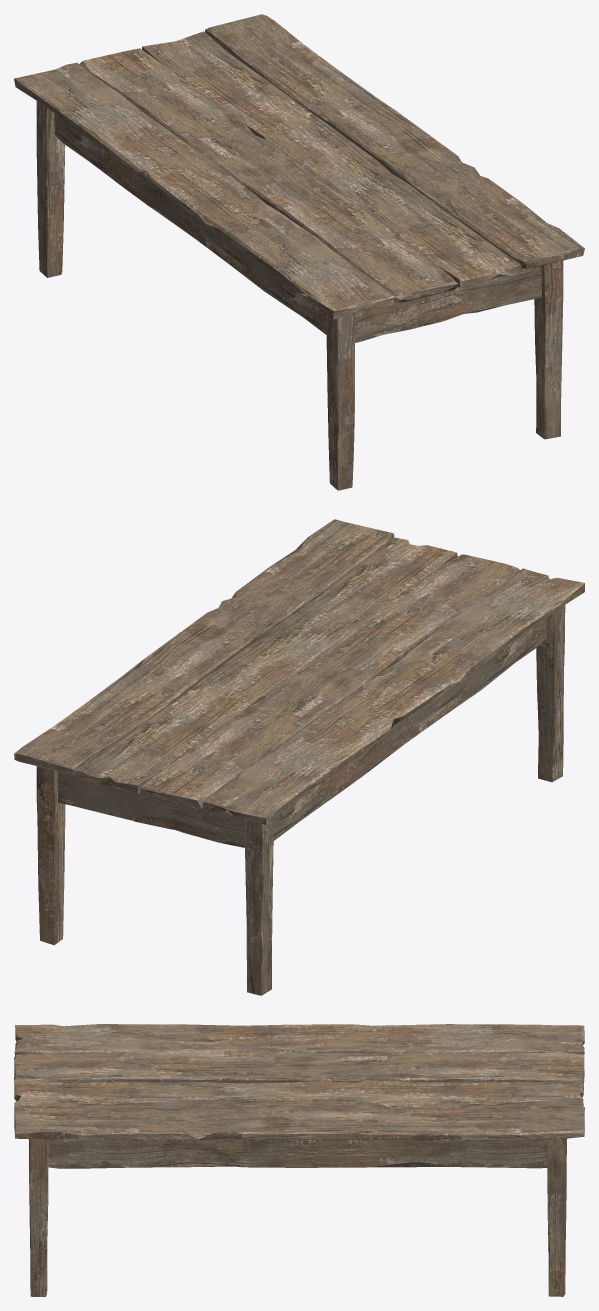
File: SM_HallTable_01.fbx
3 renders of one model, top to bottom at view 1: azimuth 30°, elevation 25°; view 2: azimuth 150°, elevation 25°; view 3: azimuth 270°, elevation 25°, orthographic. The views are drawn at different scales.
Visible parts, largest first — view 1: SM_HallTable_01_LOD0; view 2: SM_HallTable_01_LOD0; view 3: SM_HallTable_01_LOD0.
Part boxes in pixels (left/top/right/bottom): SM_HallTable_01_LOD0: left=14, top=14, right=584, bottom=490; SM_HallTable_01_LOD0: left=14, top=519, right=584, bottom=995; SM_HallTable_01_LOD0: left=14, top=1024, right=584, bottom=1296.
Size of the model in its own units: 137 by 299 by 99.56.
